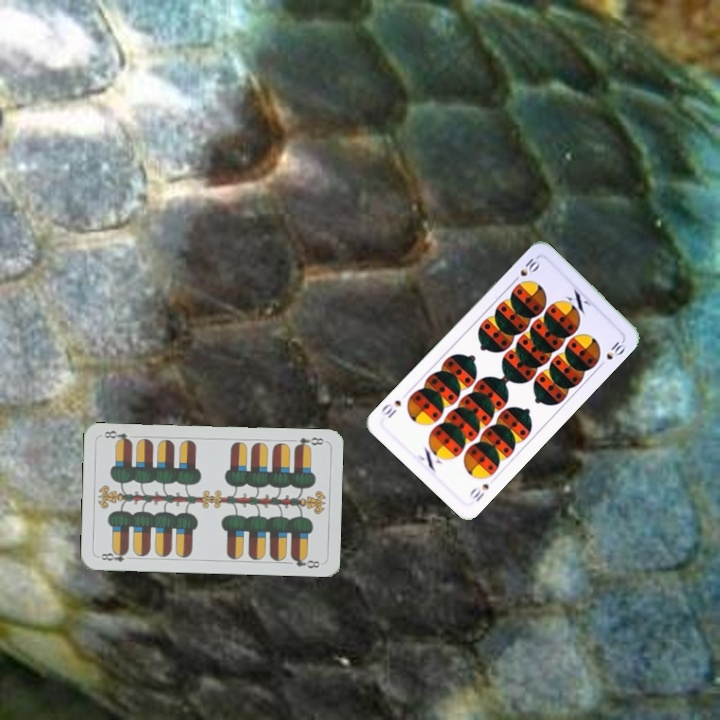E8: (95, 547, 135, 564), (290, 433, 326, 451)
S10: (508, 254, 543, 286), (465, 479, 492, 505)
